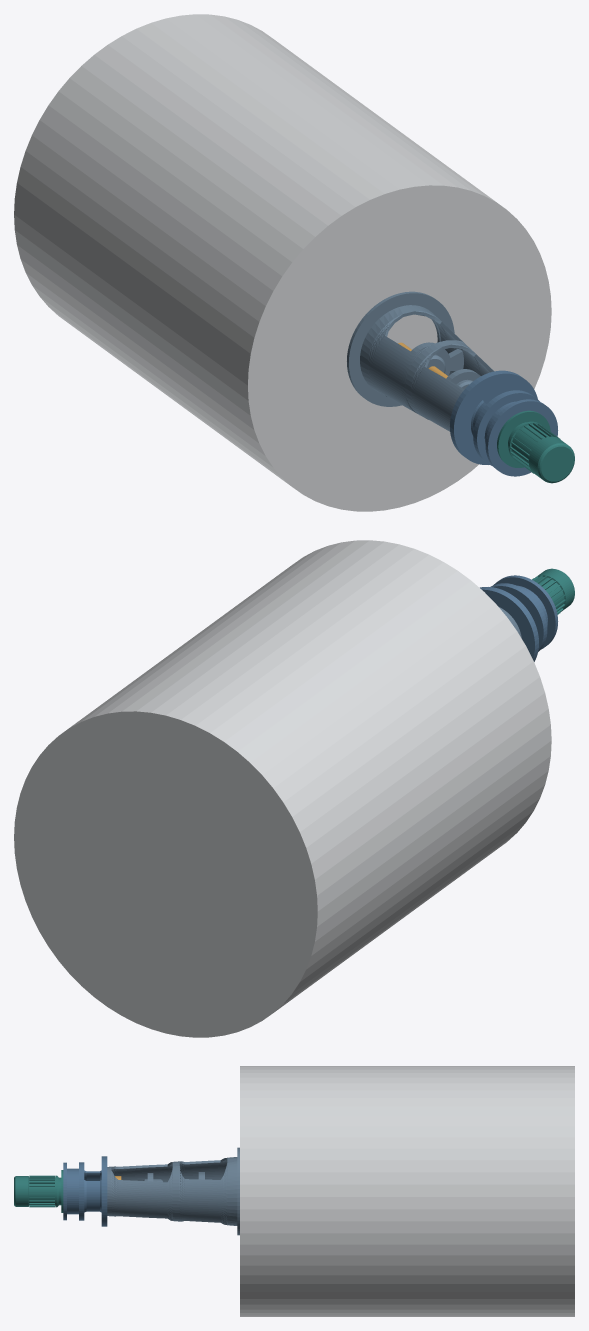
The picture shows the model from 3 angles, top to bottom: view 1: azimuth 30°, elevation 25°; view 2: azimuth 150°, elevation 25°; view 3: azimuth 270°, elevation 25°; orthographic projection. The views are drawn at different scales.
Parts seen in each view (by area): view 1: Equipment, 06_Tapered_window_frame_with_bored_seats, 01_Motor, 06_Frame_foot, 02_Base_flange_top, 02_Upper_mount_flange, 02_Middle_flange_top; view 2: Equipment, 02_Base_flange_bottom, 02_Upper_mount_flange, 01_Motor, 02_Middle_flange_bottom; view 3: Equipment, 06_Tapered_window_frame_with_bored_seats, 01_Motor, 02_Upper_housing, 02_Lower_housing_1.
Boxes of the visible parts, x1,y1,x2,y2 form: Equipment: (14,14,551,511); 06_Tapered_window_frame_with_bored_seats: (360,305,494,431); 01_Motor: (497,410,574,483); 06_Frame_foot: (347,291,454,406); 02_Base_flange_top: (452,372,537,464); 02_Upper_mount_flange: (485,399,558,476); 02_Middle_flange_top: (475,391,539,466); Equipment: (14,540,551,1037); 02_Base_flange_bottom: (481,588,536,660); 02_Upper_mount_flange: (493,575,558,649); 01_Motor: (536,568,574,611); 02_Middle_flange_bottom: (491,584,545,650); Equipment: (240,1066,574,1316); 06_Tapered_window_frame_with_bored_seats: (107,1157,237,1225); 01_Motor: (14,1170,63,1212); 02_Upper_housing: (67,1168,78,1214); 02_Lower_housing_1: (84,1180,101,1212).
Size of the model in its own units: 1.5 by 1.5 by 3.35.
